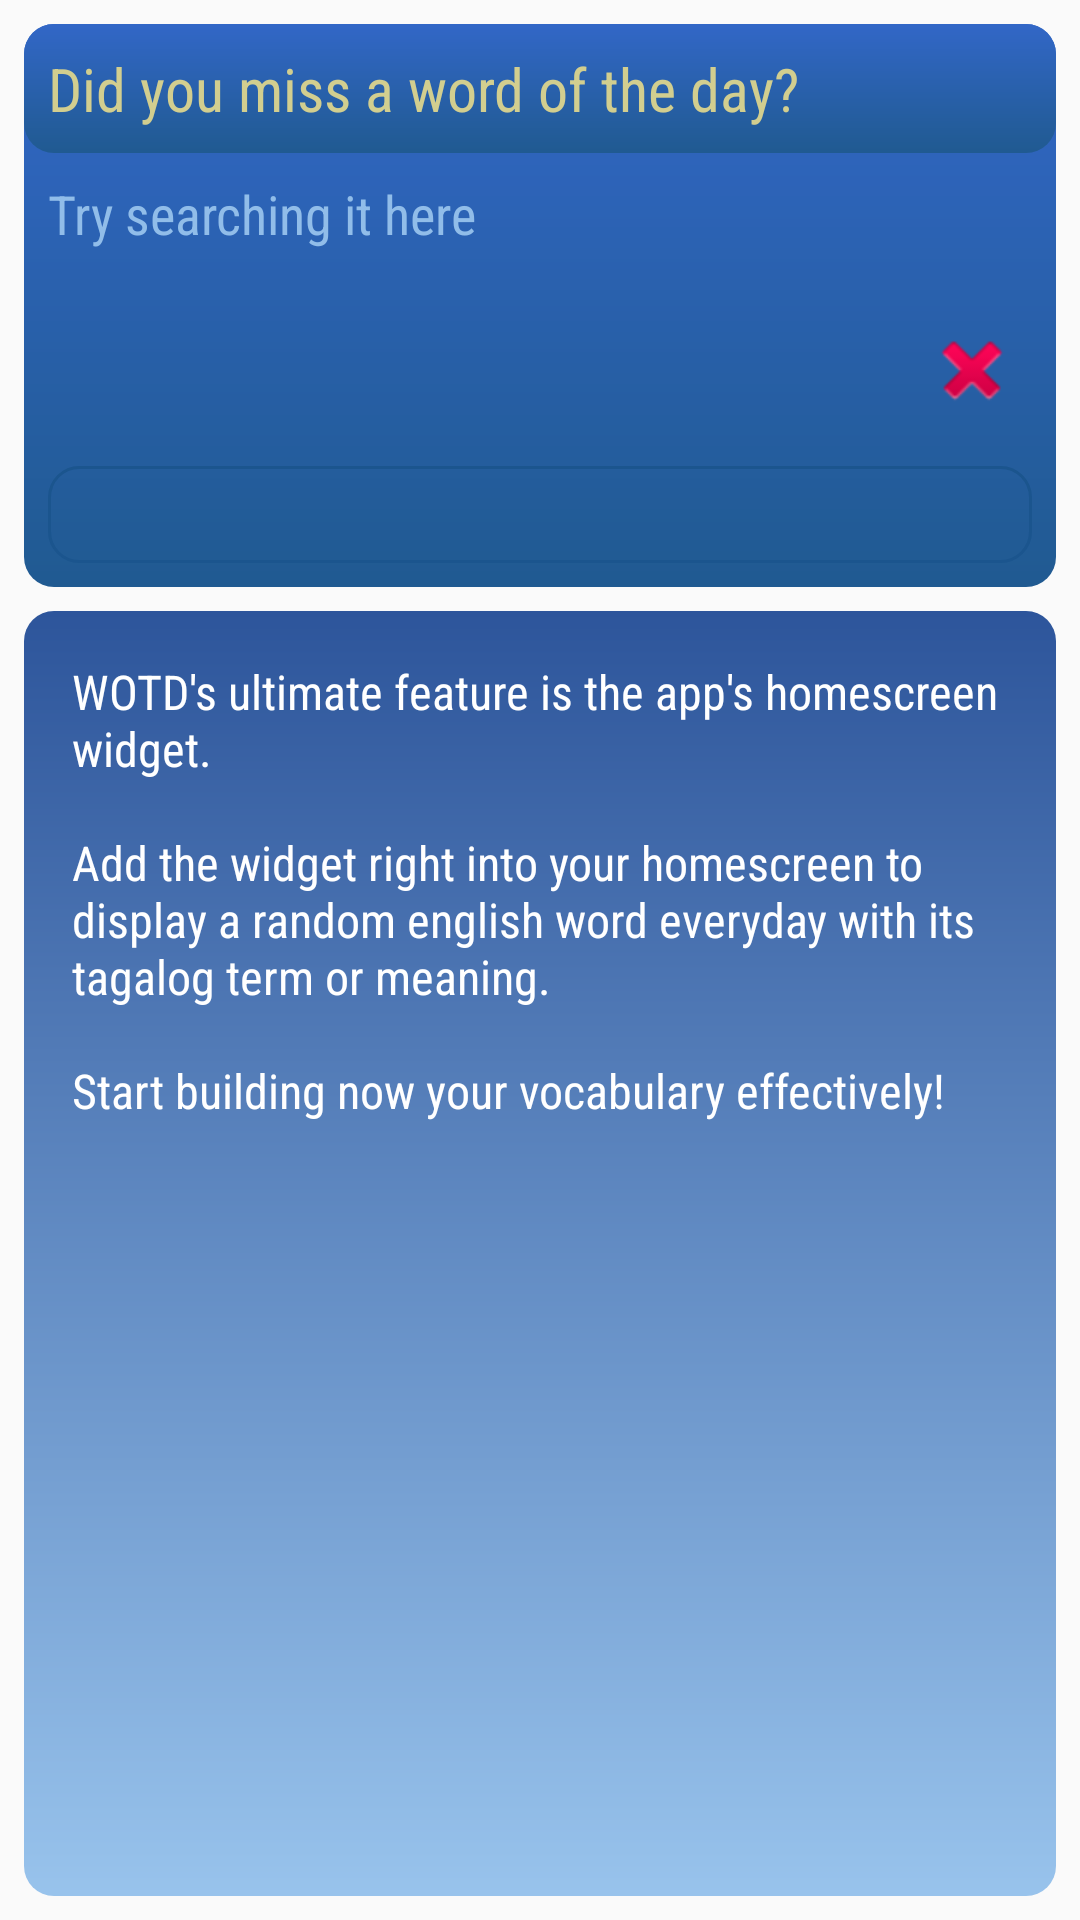

Icons on this 1080x1920 Android screen, each with the point to tap as [x,y]:
delete: [972,370]
